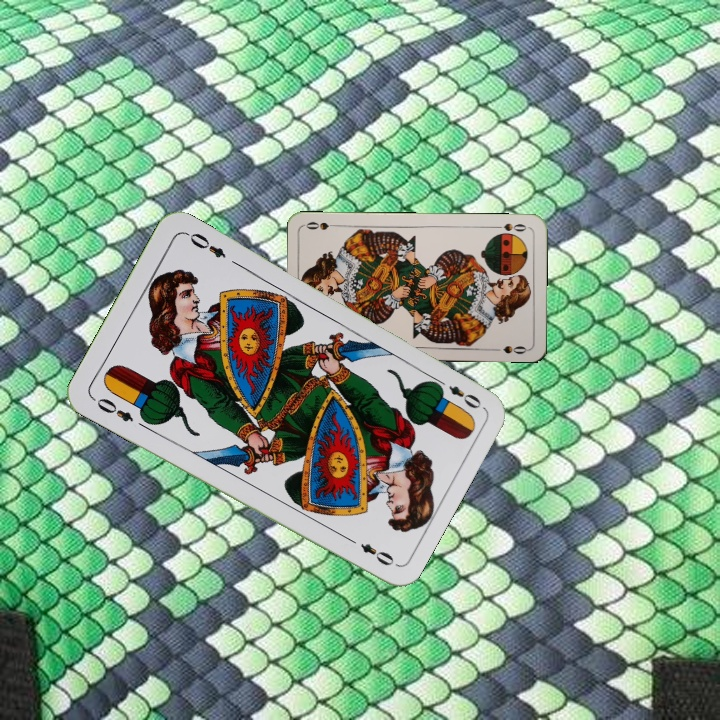EO: (430, 374, 484, 412), (92, 393, 136, 425)
SO: (491, 219, 529, 234)
